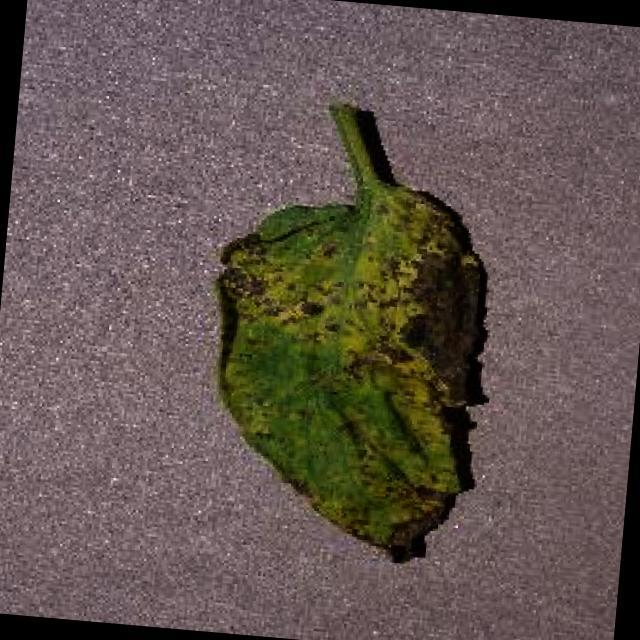Tomato Septoria spot leaf: (193, 171, 500, 567)
